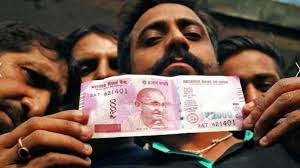twoThousand: (92, 84, 237, 124)
